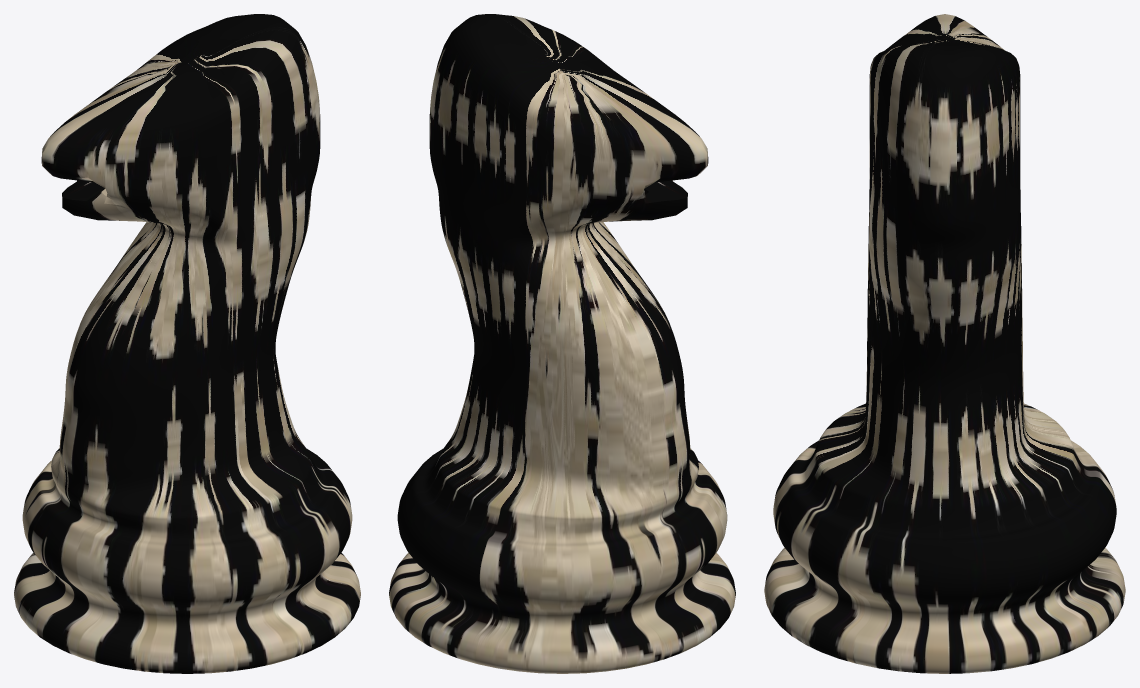
File: knight.obj
The picture shows the model from 3 angles, left to right: view 1: azimuth 30°, elevation 25°; view 2: azimuth 150°, elevation 25°; view 3: azimuth 270°, elevation 25°; orthographic projection. The views are drawn at different scales.
Visible parts, largest first — view 1: mesh01; view 2: mesh01; view 3: mesh01.
Part boxes in pixels (x1,y1,x2,y2): mesh01: (14,14,360,673); mesh01: (389,14,735,673); mesh01: (764,14,1125,673).
Bounding box in the file's own units: 11.28 × 20.35 × 11.28.
Materials: 1 (1 with a texture image).
